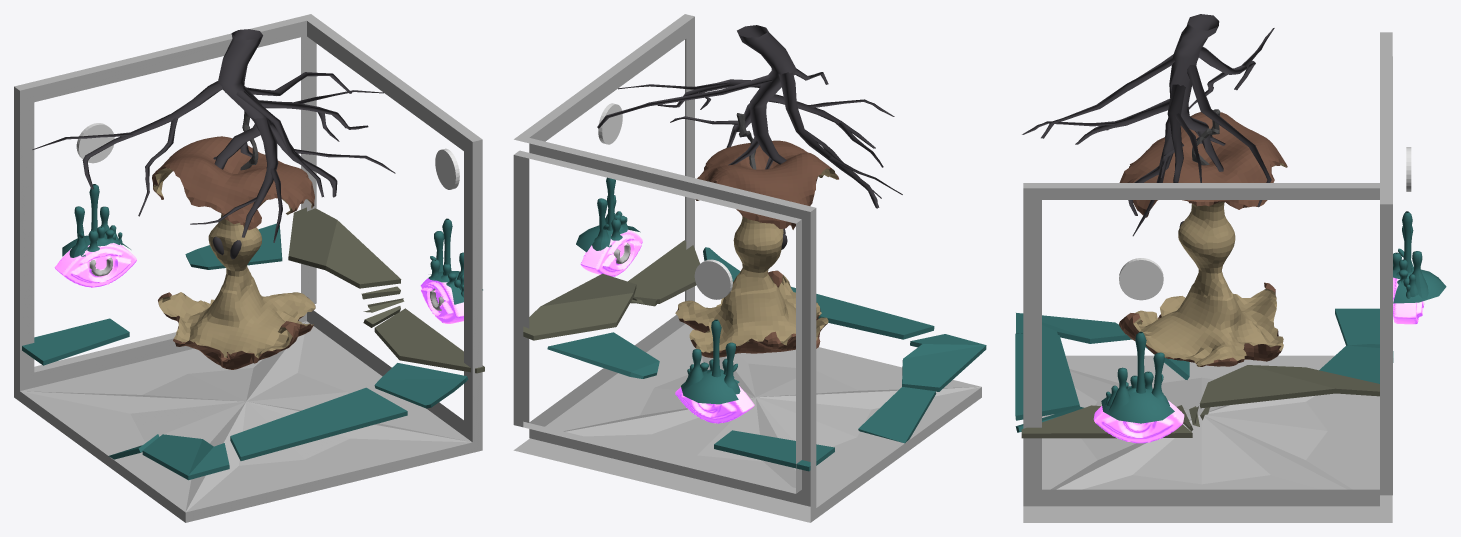
Rendered from text_wutonsence03.fbx.
The picture shows the model from 3 angles, left to right: view 1: azimuth 30°, elevation 25°; view 2: azimuth 150°, elevation 25°; view 3: azimuth 270°, elevation 25°; orthographic projection. The views are drawn at different scales.
Parts seen in each view (by area): view 1: 立方体, 立方体.024, Line002.006, tree, 立方体.025, eye_out001.003, eyeman, eyeman.001, eye_out001.001, 柱体, 柱体.002; view 2: 立方体, 立方体.024, Line002.006, tree, eyeman, 立方体.025, eyeman.001, eye_out001.001, eye_out001.003, 柱体, 柱体.002; view 3: 立方体, Line002.006, 立方体.024, tree, eyeman.001, eyeman, eye_out001.001, 柱体.002, 立方体.025, eye_out001.003.
Boxes of the visible parts, x1=… form: 立方体: x1=14, y1=14, x2=482, y2=522; 立方体.024: x1=108, y1=207, x2=484, y2=480; Line002.006: x1=152, y1=136, x2=315, y2=369; tree: x1=32, y1=29, x2=395, y2=242; 立方体.025: x1=22, y1=318, x2=129, y2=365; eye_out001.003: x1=54, y1=243, x2=136, y2=287; eyeman: x1=62, y1=184, x2=130, y2=257; eyeman.001: x1=428, y1=218, x2=482, y2=304; eye_out001.001: x1=420, y1=278, x2=463, y2=323; 柱体: x1=76, y1=123, x2=114, y2=163; 柱体.002: x1=435, y1=148, x2=459, y2=189; 立方体: x1=513, y1=14, x2=981, y2=522; 立方体.024: x1=523, y1=240, x2=986, y2=443; Line002.006: x1=675, y1=140, x2=838, y2=357; tree: x1=597, y1=25, x2=902, y2=208; eyeman: x1=681, y1=319, x2=740, y2=404; 立方体.025: x1=714, y1=430, x2=834, y2=471; eyeman.001: x1=576, y1=177, x2=640, y2=252; eye_out001.001: x1=580, y1=230, x2=642, y2=276; eye_out001.003: x1=675, y1=385, x2=754, y2=423; 柱体: x1=694, y1=259, x2=732, y2=299; 柱体.002: x1=598, y1=103, x2=622, y2=144; 立方体: x1=1023, y1=32, x2=1392, y2=522; Line002.006: x1=1119, y1=112, x2=1287, y2=366; 立方体.024: x1=1015, y1=313, x2=1379, y2=438; tree: x1=1022, y1=14, x2=1274, y2=236; eyeman.001: x1=1101, y1=331, x2=1174, y2=423; eyeman: x1=1393, y1=211, x2=1446, y2=303; eye_out001.001: x1=1093, y1=400, x2=1184, y2=443; 柱体.002: x1=1119, y1=258, x2=1163, y2=300; 立方体.025: x1=1335, y1=308, x2=1393, y2=362; eye_out001.003: x1=1393, y1=277, x2=1424, y2=324.
Size of the model in its own units: 1341 by 1307 by 1209.
